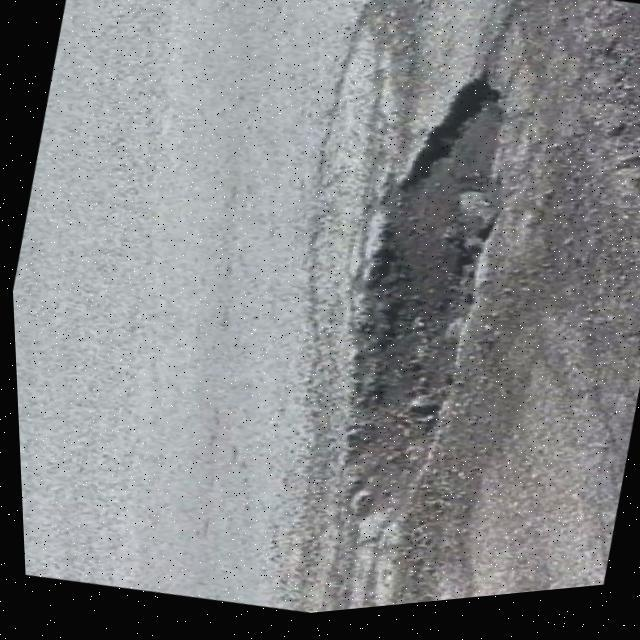pothole: (272, 47, 564, 560)
